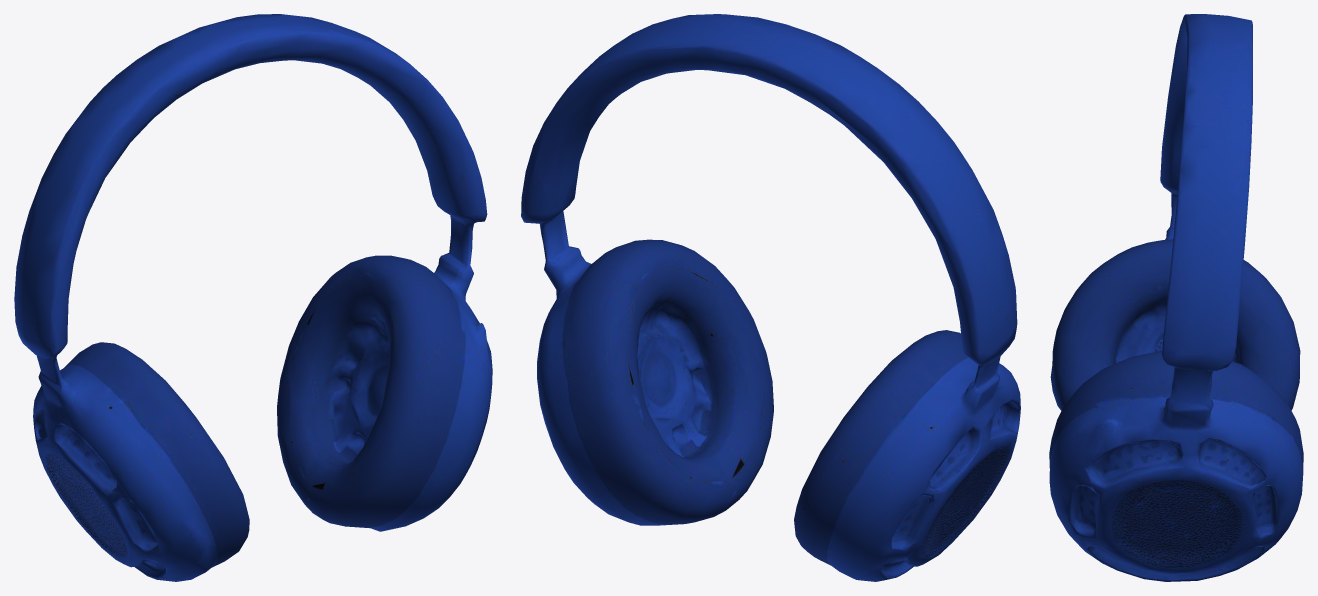
The model's file is fone_azul.glb.
3 views of the same model, side by side, from view 1: azimuth 30°, elevation 25°; view 2: azimuth 150°, elevation 25°; view 3: azimuth 270°, elevation 25° (orthographic). The views are drawn at different scales.
Parts seen in each view (by area): view 1: Prop_fone; view 2: Prop_fone; view 3: Prop_fone.
Boxes of the visible parts, x1,y1,x2,y2 form: Prop_fone: (14,14,492,581); Prop_fone: (521,14,1020,581); Prop_fone: (1049,14,1303,581).
Size of the model in its own units: 0.184 by 0.2 by 0.0942.
Materials: 1 (1 with a texture image).
